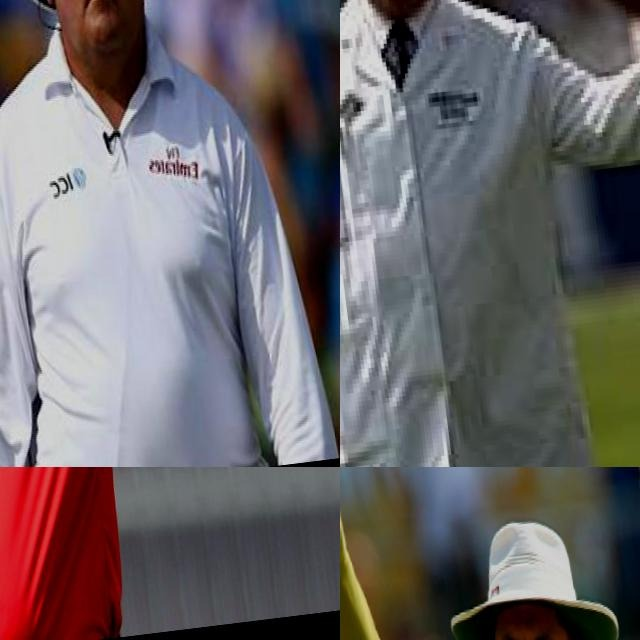No_Action: (0, 0, 340, 467)
No_Ball: (0, 467, 340, 640)
Six: (340, 467, 640, 640)
Wide: (340, 0, 640, 467)
